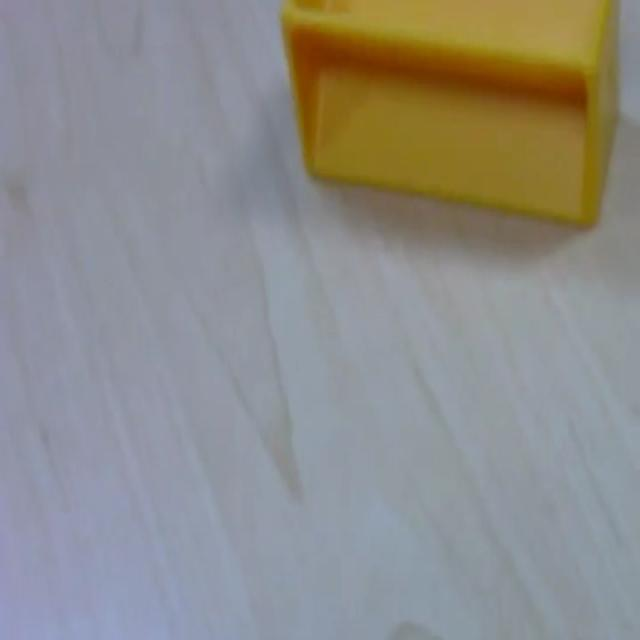yellow_block: (279, 0, 620, 229)
